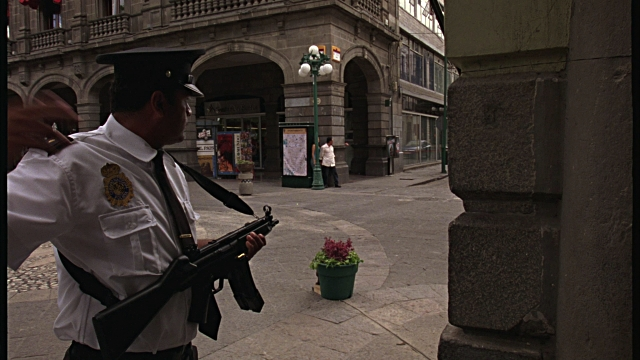rifle: (92, 201, 287, 358)
